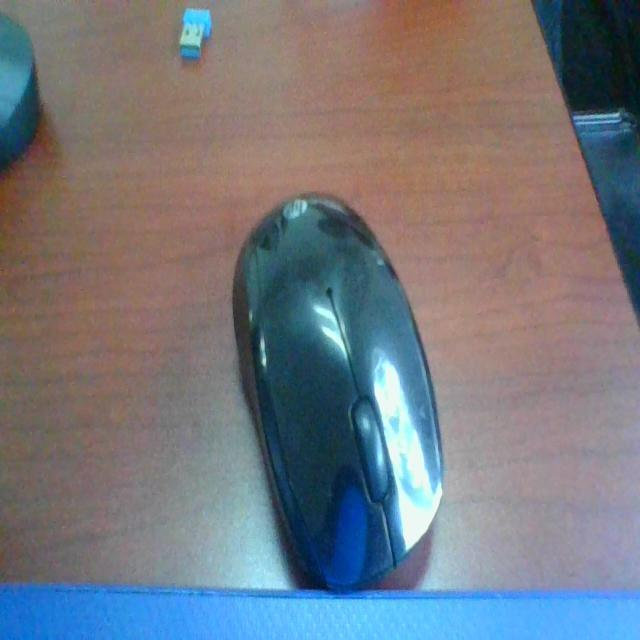Mouse: (221, 163, 484, 603)
